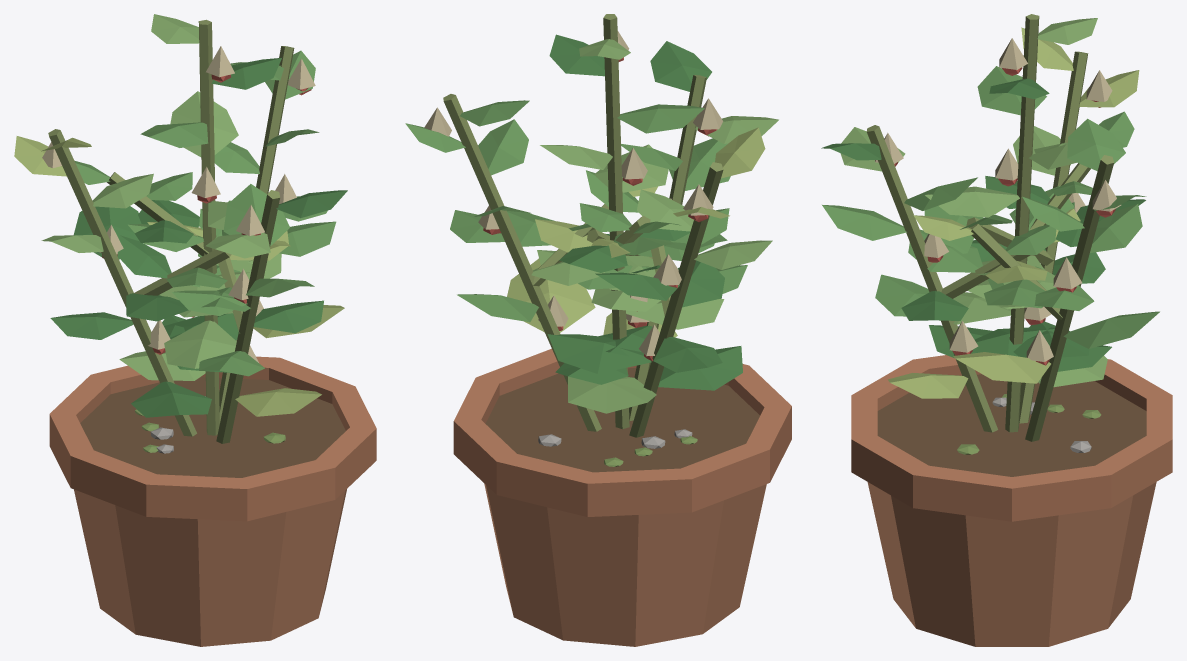
File: ashwagandha.glb
3 views of the same model, side by side, from view 1: azimuth 30°, elevation 25°; view 2: azimuth 150°, elevation 25°; view 3: azimuth 270°, elevation 25° (orthographic). The views are drawn at different scales.
Visible parts, largest first — view 1: pot, plant; view 2: pot, plant; view 3: pot, plant.
Part boxes in pixels (bbox=[...]): pot: bbox=[49, 356, 376, 646]; plant: bbox=[14, 14, 347, 443]; pot: bbox=[453, 348, 791, 646]; plant: bbox=[405, 14, 778, 437]; pot: bbox=[851, 355, 1172, 646]; plant: bbox=[821, 14, 1159, 441].
Size of the model in its own units: 0.3984 by 0.7054 by 0.386.
